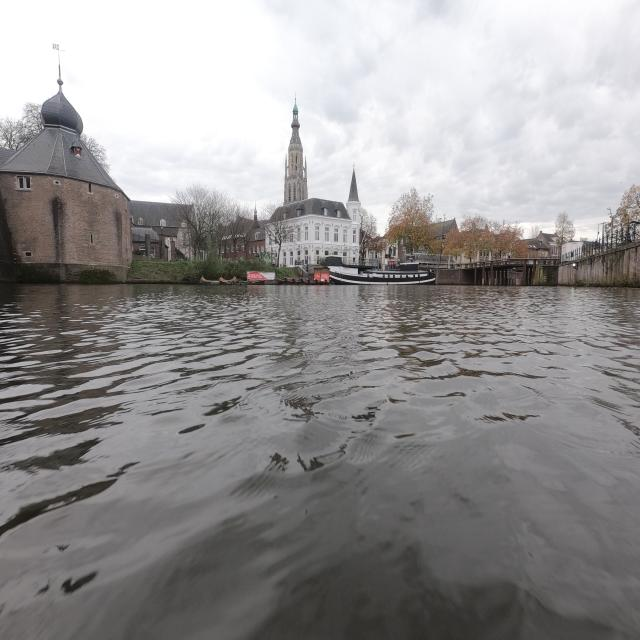boat: (334, 264, 432, 286)
grass: (127, 258, 275, 283)
sky: (6, 8, 638, 238)
wall: (0, 62, 128, 280), (574, 246, 638, 286)
water: (4, 290, 638, 634)
